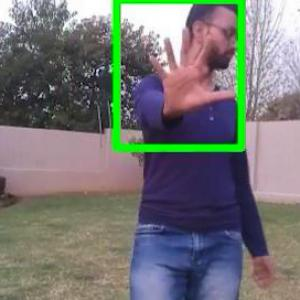follow_hand: (146, 23, 240, 120)
